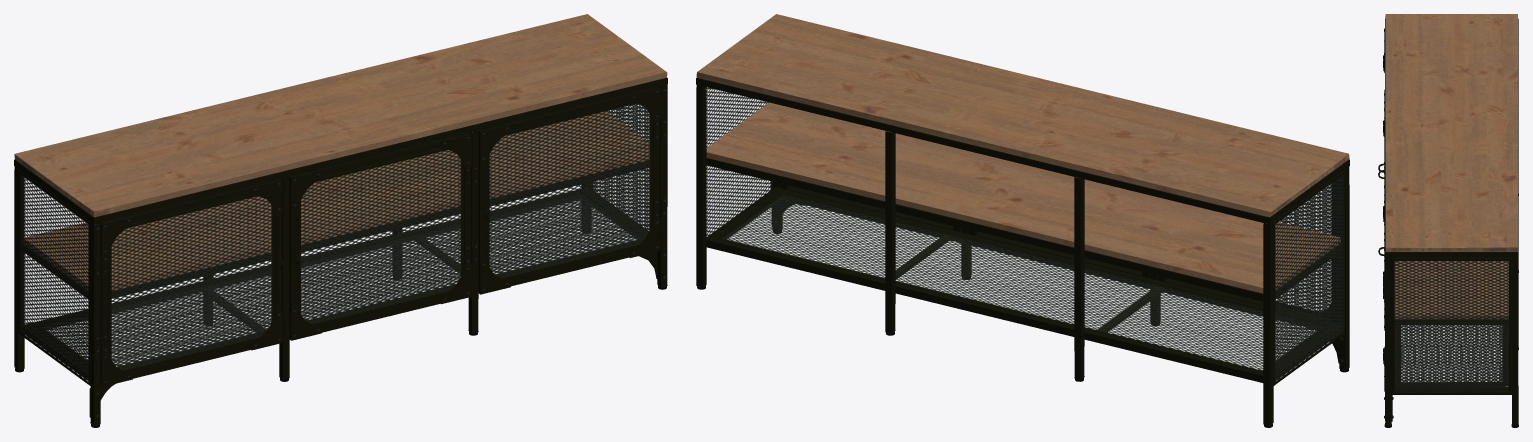
The model's file is fjallbo_szafka_pod_tv_90339290.glb.
The picture shows the model from 3 angles, left to right: view 1: azimuth 30°, elevation 25°; view 2: azimuth 150°, elevation 25°; view 3: azimuth 270°, elevation 25°; orthographic projection. The views are drawn at different scales.
Parts seen in each view (by area): view 1: fjallbo_szafka_pod_tv_90339290; view 2: fjallbo_szafka_pod_tv_90339290; view 3: fjallbo_szafka_pod_tv_90339290.
Boxes of the visible parts, x1,y1,x2,y2 form: fjallbo_szafka_pod_tv_90339290: [14, 14, 667, 427]; fjallbo_szafka_pod_tv_90339290: [696, 14, 1349, 427]; fjallbo_szafka_pod_tv_90339290: [1378, 14, 1518, 427].
Size of the model in its own units: 1.49 by 0.5379 by 0.3801.
Materials: 2 (2 with a texture image).
